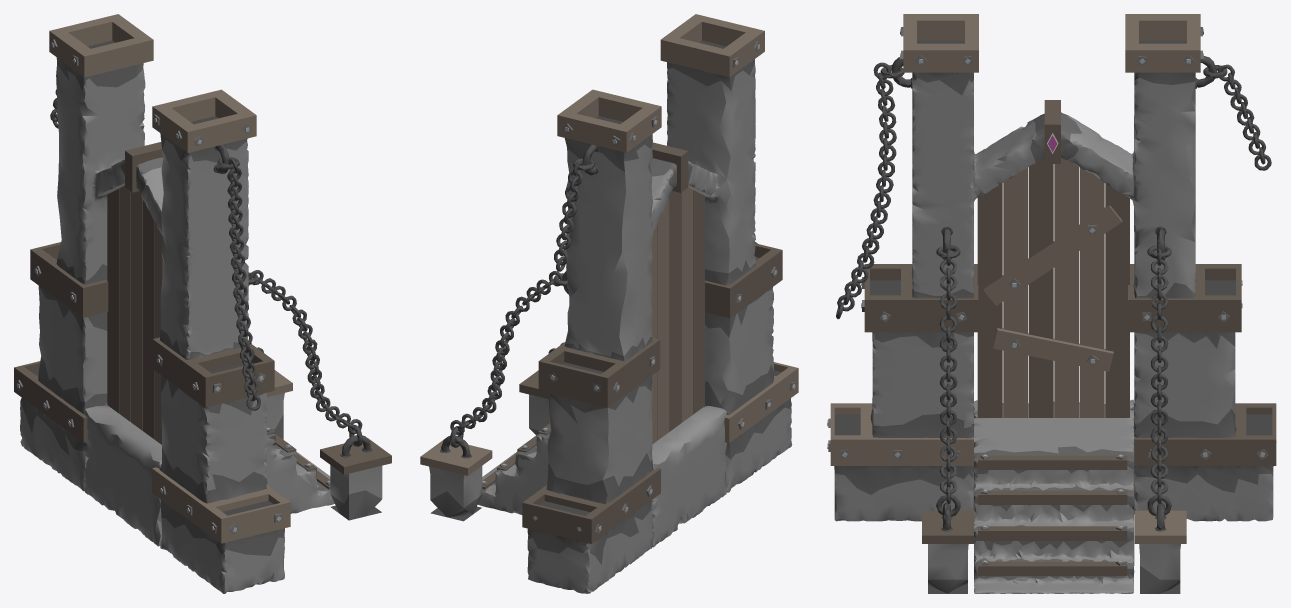
Rendered from DungeonEntrance.fbx.
3 renders of one model, left to right at view 1: azimuth 30°, elevation 25°; view 2: azimuth 150°, elevation 25°; view 3: azimuth 270°, elevation 25°, orthographic. The views are drawn at different scales.
Parts seen in each view (by area): view 1: dungeon_entrance_new:Mesh1; view 2: dungeon_entrance_new:Mesh1; view 3: dungeon_entrance_new:Mesh1.
Boxes of the visible parts, box(x1,y1,x2,y2) form: dungeon_entrance_new:Mesh1: box(14, 14, 391, 593); dungeon_entrance_new:Mesh1: box(420, 14, 798, 593); dungeon_entrance_new:Mesh1: box(827, 14, 1276, 593).
Bounding box in the file's own units: 10.78 × 21.06 × 18.12.
